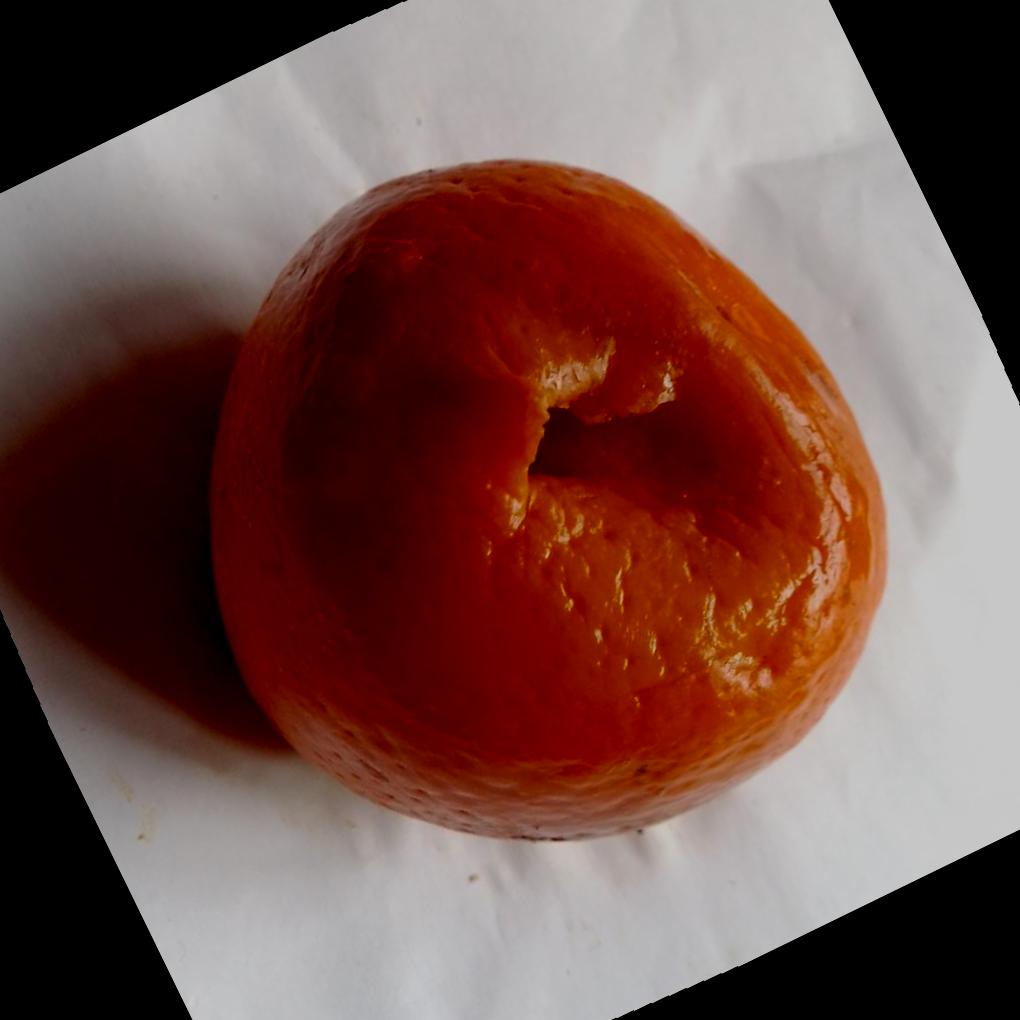FreshOrange: (203, 152, 888, 841)
